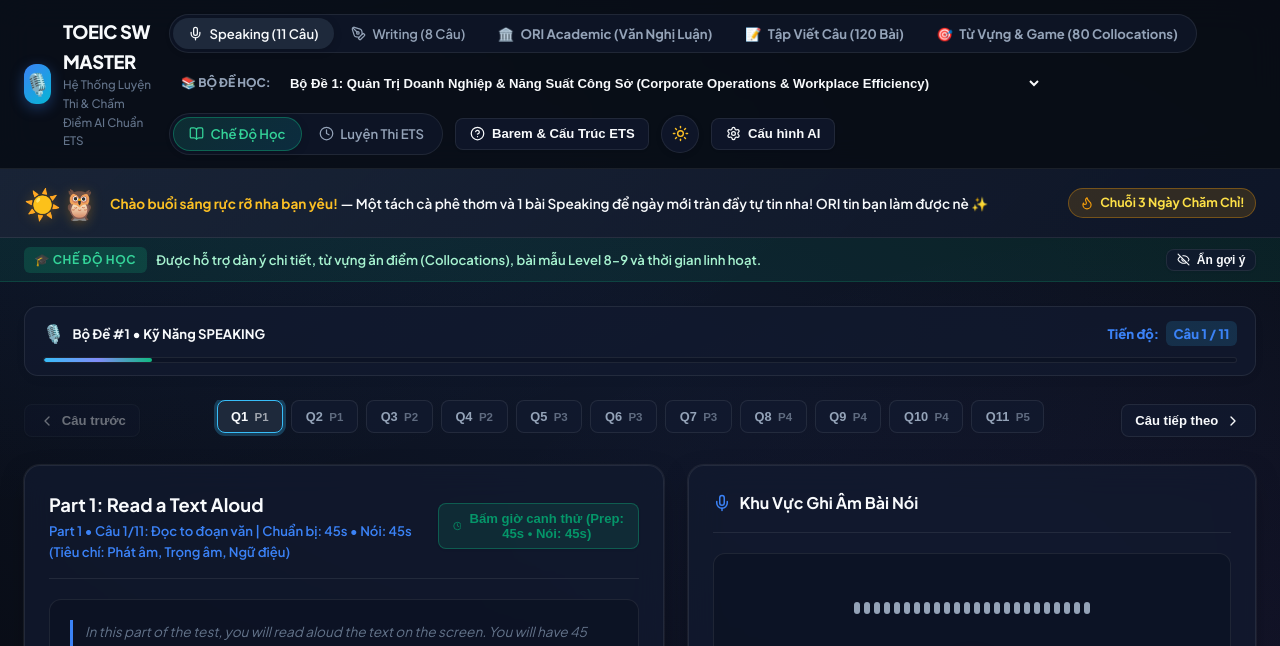
Test: App Component › switches between test sets (Bộ Đề 1 to 10) dynamically
# Switch to Bộ Đề 2 (Công Nghệ Thông Tin, AI & Chuyển Đổi Số)
Step 1. Select "Bộ Đề 2: Công Nghệ Thông Tin, AI & Chuyển Đổi Số (Information Technology, AI & A" in the dropdown named "Chọn bộ đề" → (660, 83), box [278,71,1042,96]
(page scrolled)
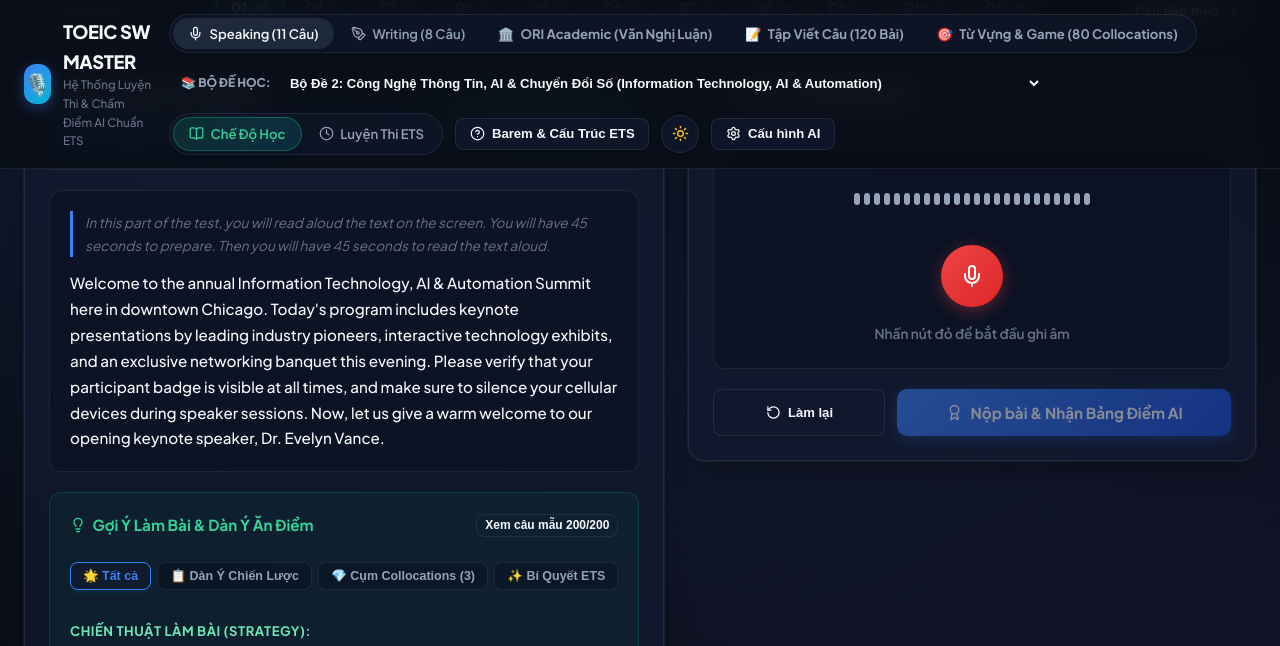
Expected: the text "Summit here in downtown Chicago" is shown, [70,273,617,448]
